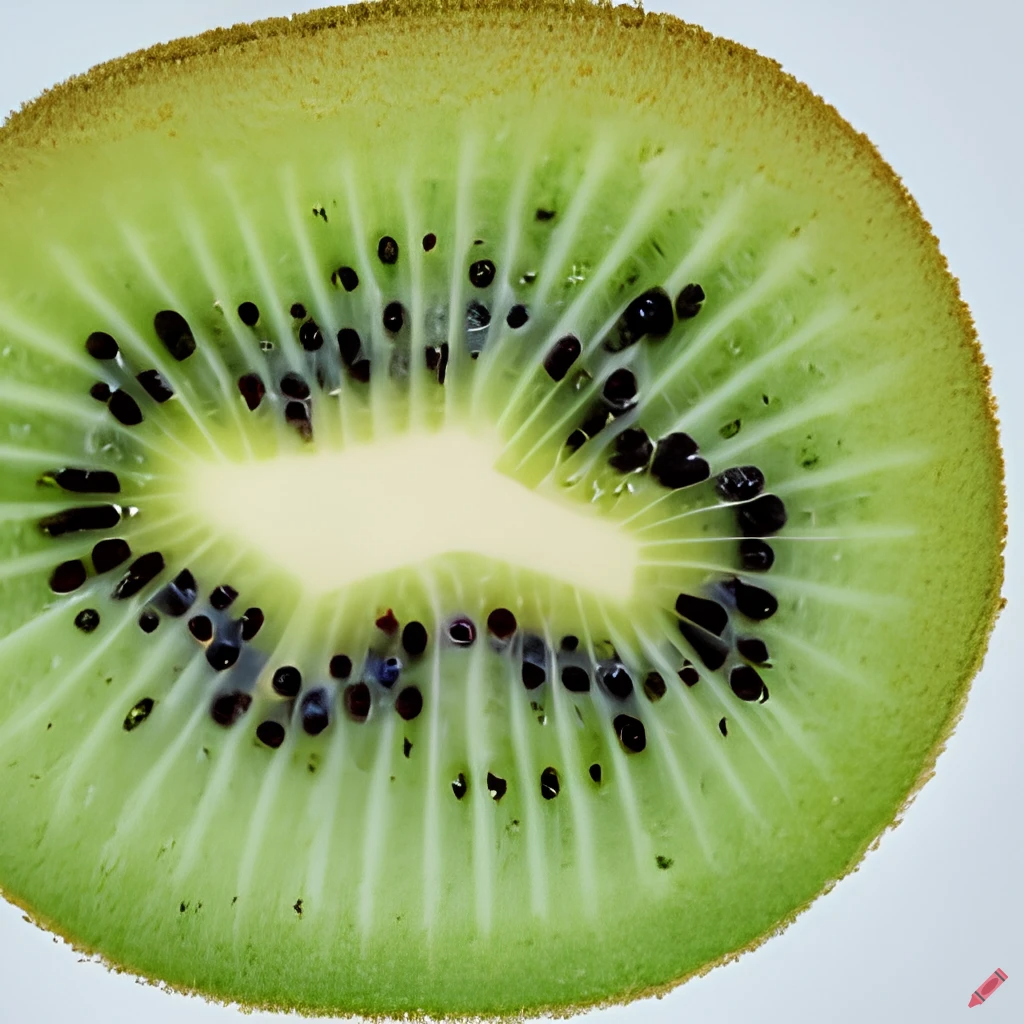Kiwi: (0, 0, 1006, 1008)
